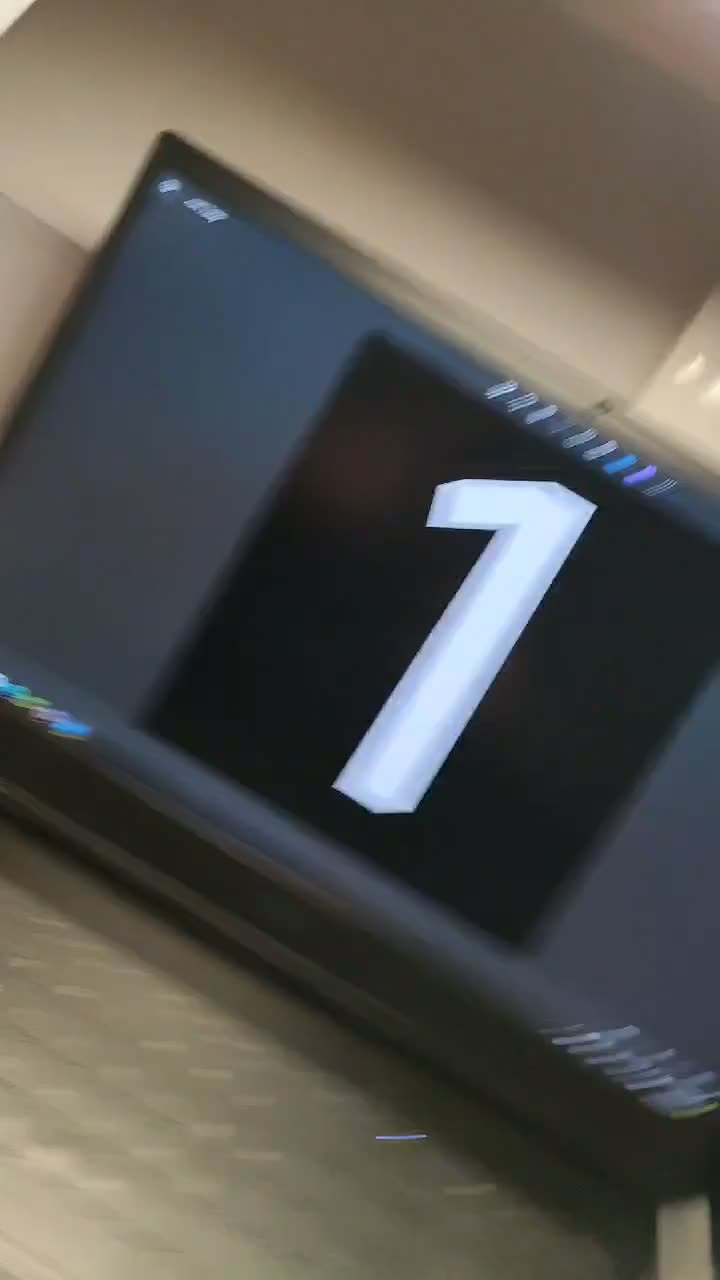one: (247, 392, 592, 846)
